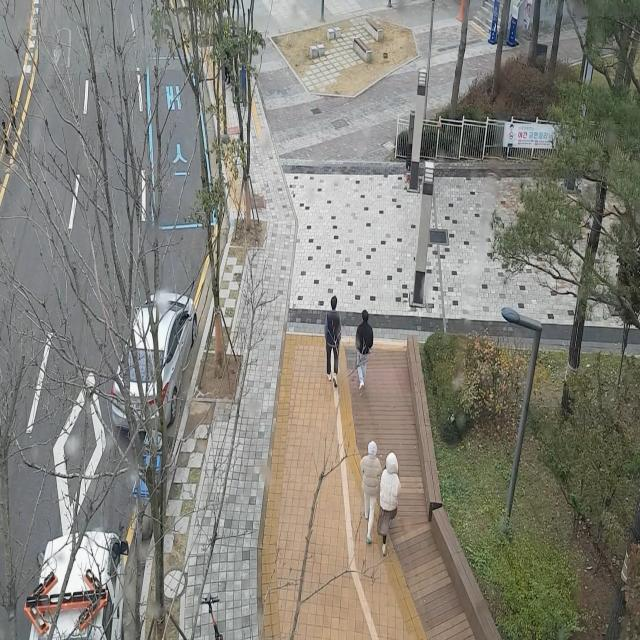Car: (101, 259, 209, 452)
Truck: (19, 492, 133, 640)
